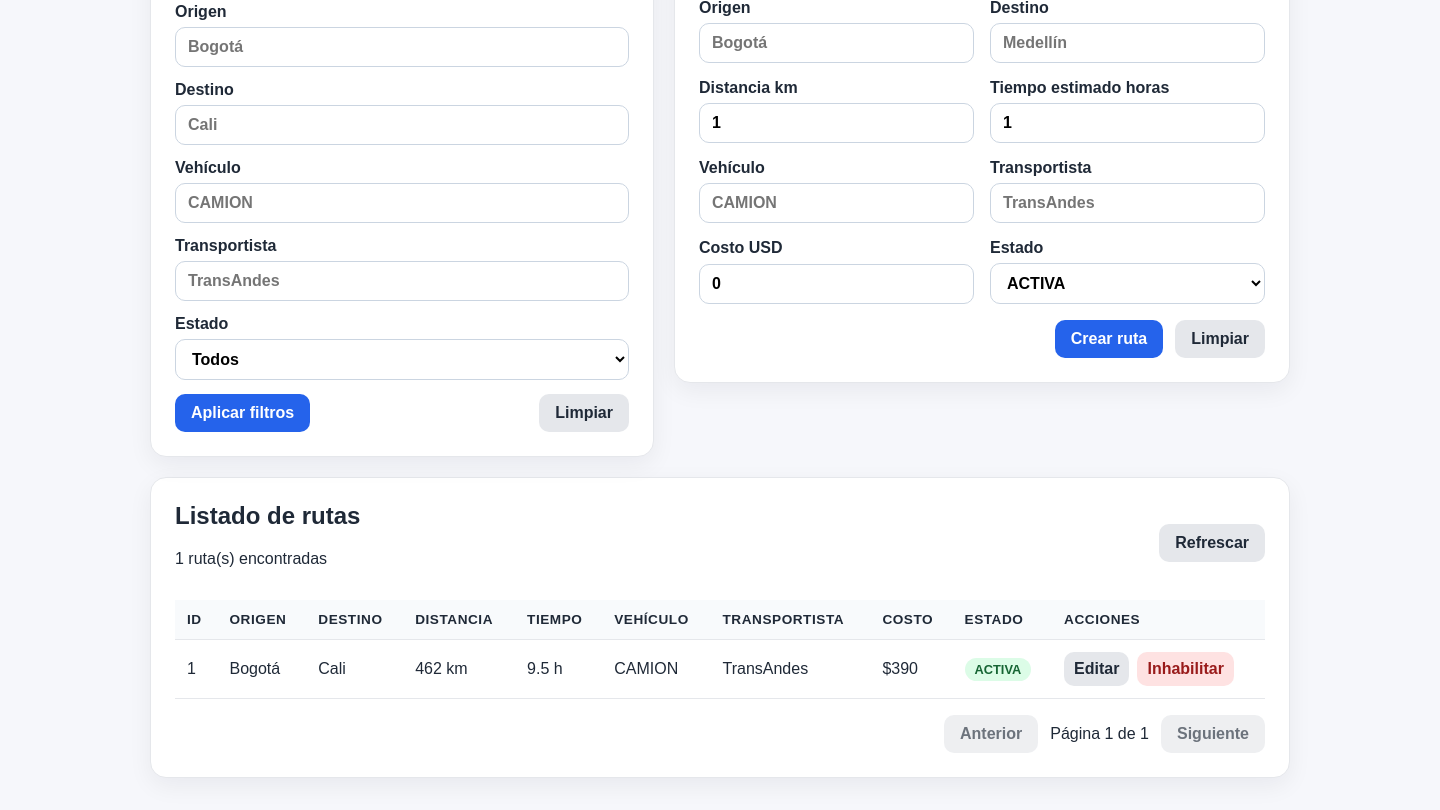
Scenario: RoutesPageComponent › confirms and soft deletes a route
(page scrolled)
Click the button "Inhabilitar" at (1186, 669), box [1138, 652, 1234, 686]
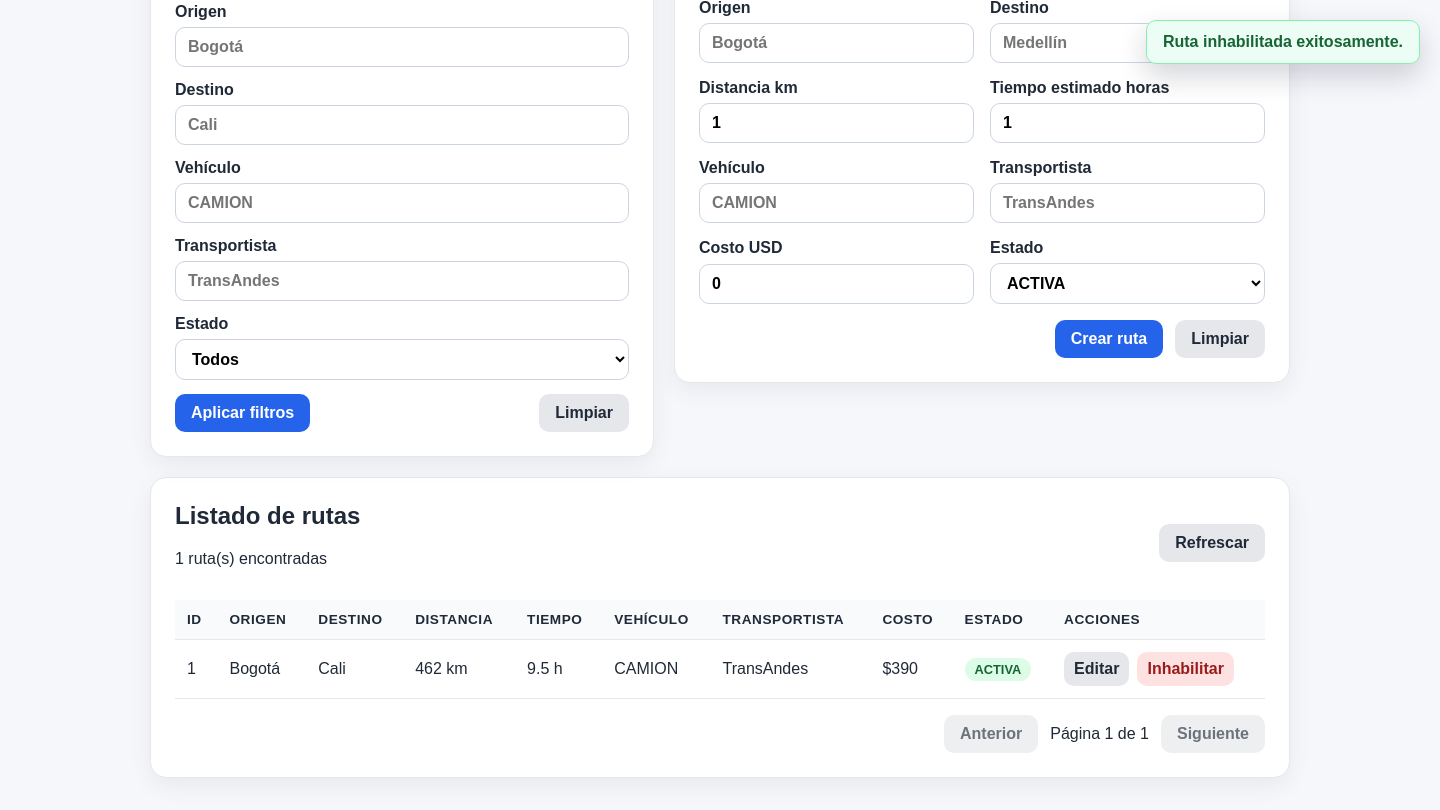
Now the text "Ruta inhabilitada exitosamente." is shown, box [1146, 20, 1420, 64]
